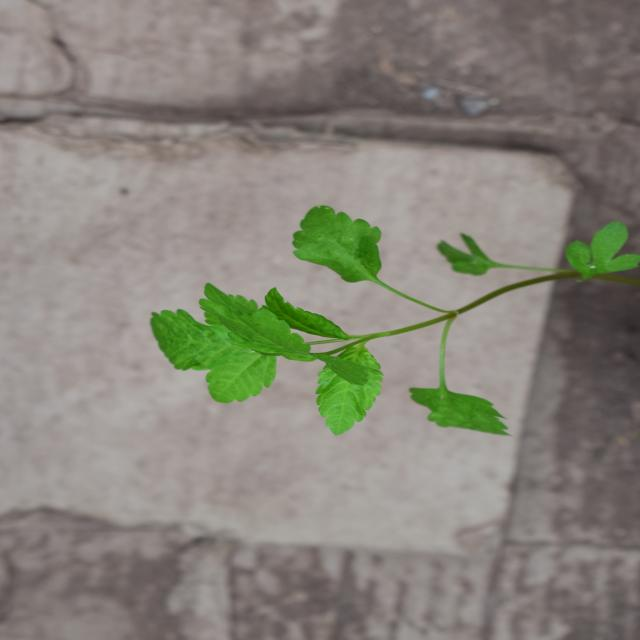Bidens pilosa: (192, 144, 438, 536)
